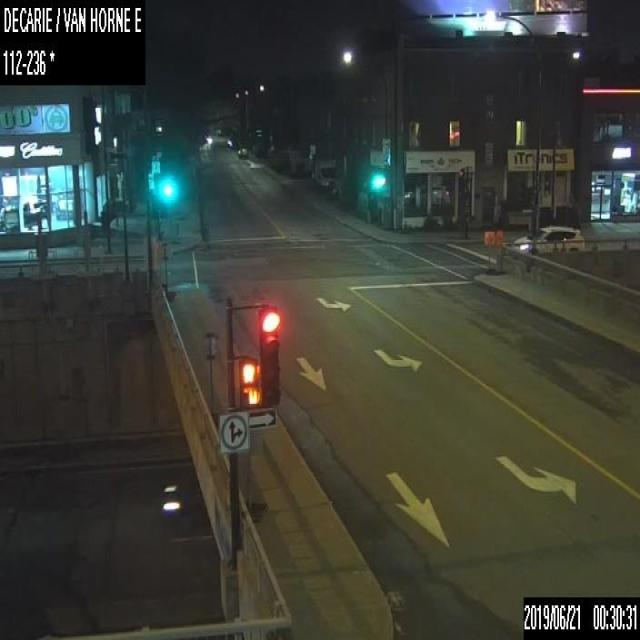construction: (244, 426, 267, 522), (201, 332, 221, 427), (156, 240, 174, 300), (484, 230, 493, 272), (495, 229, 503, 273)
vehicle: (160, 478, 208, 532), (512, 224, 584, 254), (317, 158, 334, 192), (237, 145, 247, 158), (225, 139, 232, 148)
